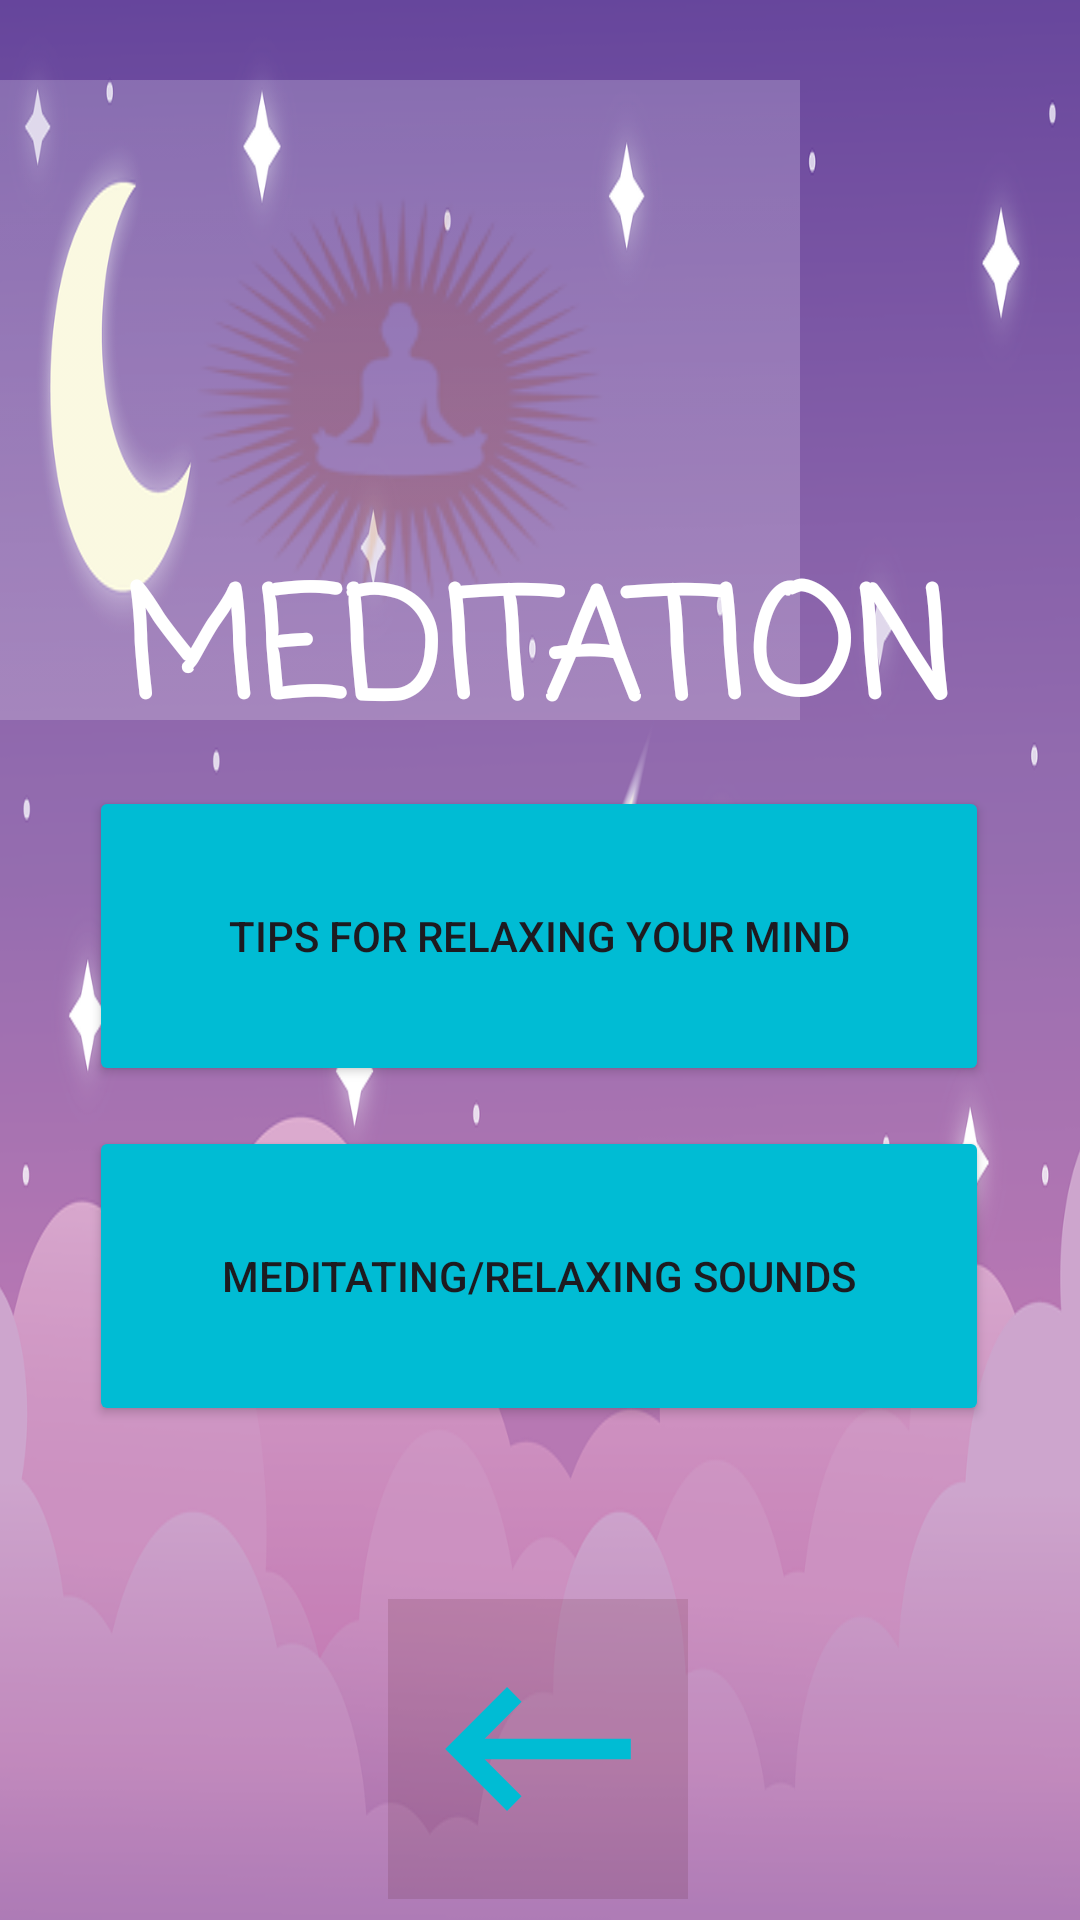

Locate icon controls on the screen. Image size 1080×1920, boxes as [x1,y1,x2,y2].
back: [388,1599,688,1899]
